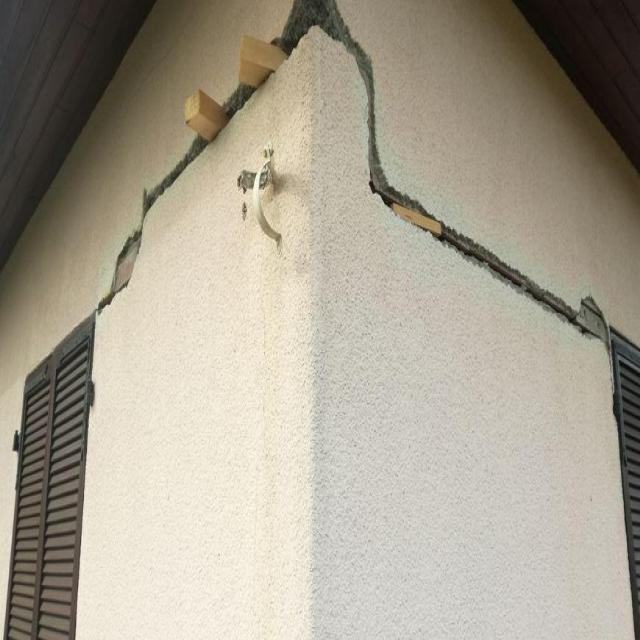crack: (272, 0, 611, 350), (142, 135, 204, 217), (98, 228, 142, 312), (223, 85, 251, 115)
